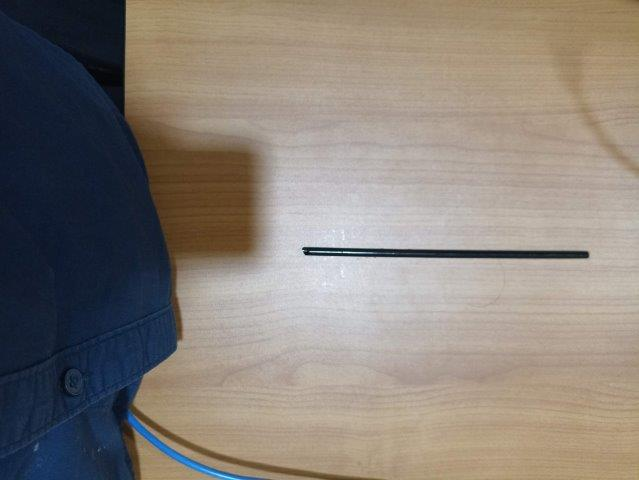sedotan: (303, 247, 589, 259)
